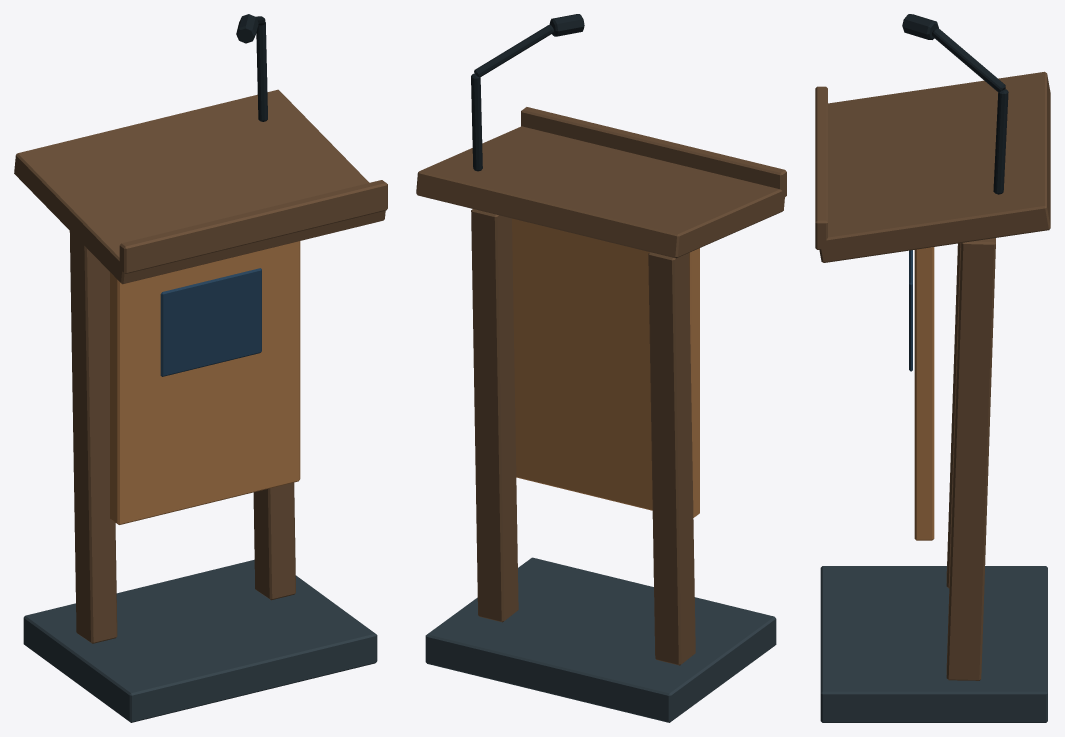
File: b20_outdoor_speaking_lectern.glb
The picture shows the model from 3 angles, left to right: view 1: azimuth 30°, elevation 25°; view 2: azimuth 150°, elevation 25°; view 3: azimuth 270°, elevation 25°; orthographic projection. The views are drawn at different scales.
Parts seen in each view (by area): view 1: b20_outdoor_speaking_lectern; view 2: b20_outdoor_speaking_lectern; view 3: b20_outdoor_speaking_lectern.
Part boxes in pixels (box(x1,y1,x2,y2)): b20_outdoor_speaking_lectern: box(14, 14, 387, 722); b20_outdoor_speaking_lectern: box(416, 14, 786, 722); b20_outdoor_speaking_lectern: box(815, 14, 1050, 722).
Bounding box in the file's own units: 0.65 × 1.48 × 0.4767.
